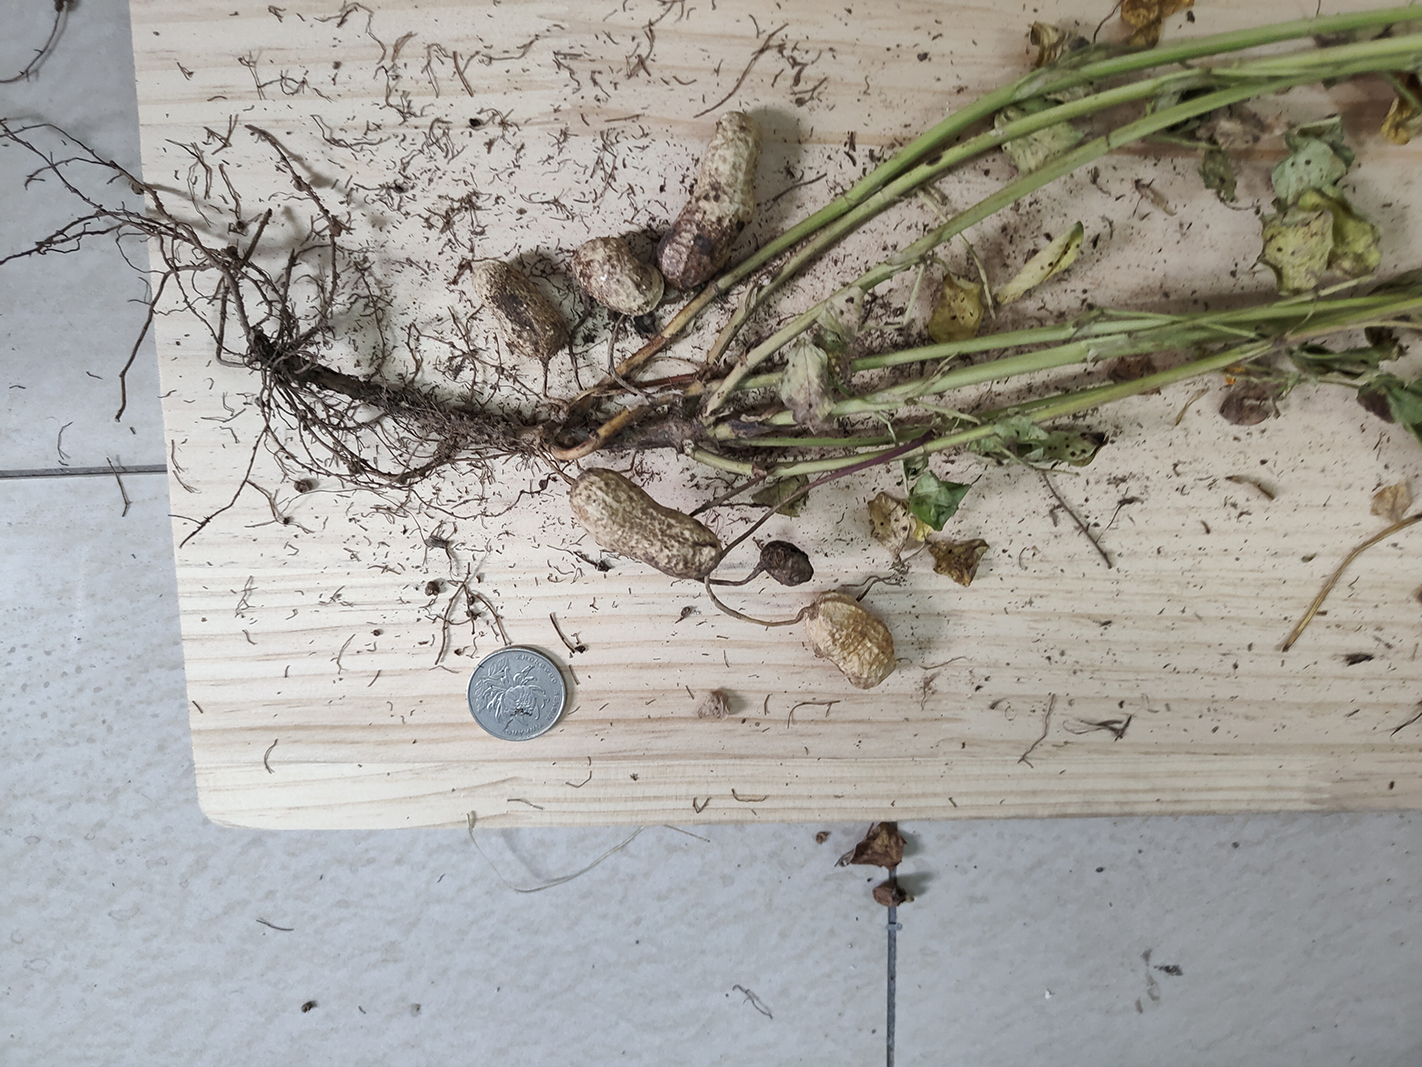h: (657, 108, 760, 286), (571, 468, 722, 579), (806, 593, 895, 688), (571, 235, 666, 315)
l: (474, 266, 566, 354), (763, 542, 814, 590)
